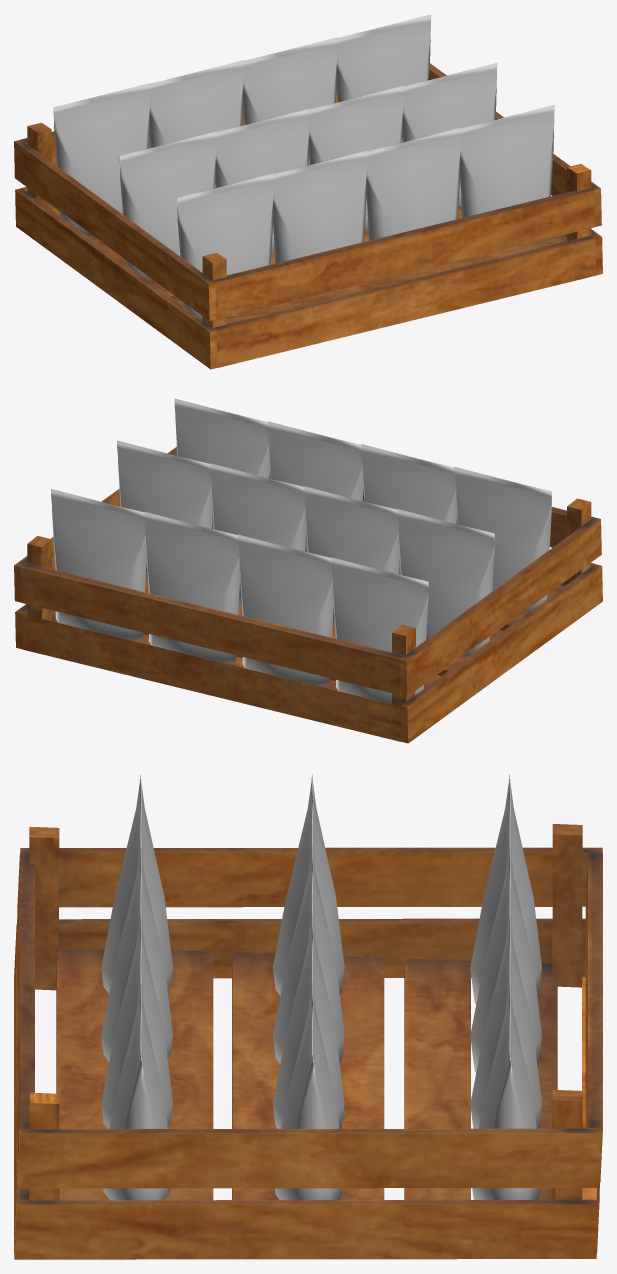
Rendered from Chips.003.fbx.
3 views of the same model, one above another, from view 1: azimuth 30°, elevation 25°; view 2: azimuth 150°, elevation 25°; view 3: azimuth 270°, elevation 25° (orthographic). The views are drawn at different scales.
Visible parts, largest first — view 1: Rack, PAPRIKA, PAPRIKA.001, PAPRIKA.002, PAPRIKA.011, PAPRIKA.003, PAPRIKA.007, PAPRIKA.008, PAPRIKA.010, PAPRIKA.009, PAPRIKA.004, PAPRIKA.005 (+1 smaller); view 2: Rack, PAPRIKA.009, PAPRIKA.010, PAPRIKA.008, PAPRIKA.007, PAPRIKA.011, PAPRIKA.003, PAPRIKA.005, PAPRIKA.004, PAPRIKA.006, PAPRIKA.001, PAPRIKA (+1 smaller); view 3: Rack, PAPRIKA, PAPRIKA.008, PAPRIKA.004, PAPRIKA.010, PAPRIKA.011, PAPRIKA.006, PAPRIKA.007, PAPRIKA.002, PAPRIKA.005, PAPRIKA.009, PAPRIKA.003 (+1 smaller).
Part boxes in pixels (x1,y1,x2,y2): Rack: (14, 63, 602, 369); PAPRIKA: (457, 105, 554, 247); PAPRIKA.001: (364, 127, 461, 270); PAPRIKA.002: (270, 150, 367, 293); PAPRIKA.011: (53, 83, 150, 237); PAPRIKA.003: (177, 173, 274, 319); PAPRIKA.007: (119, 131, 216, 278); PAPRIKA.008: (334, 14, 431, 142); PAPRIKA.010: (147, 60, 244, 187); PAPRIKA.009: (241, 37, 337, 165); PAPRIKA.004: (400, 63, 497, 206); PAPRIKA.005: (307, 85, 403, 229); Rack: (14, 446, 602, 743); PAPRIKA.009: (144, 511, 240, 663); PAPRIKA.010: (238, 534, 333, 686); PAPRIKA.008: (51, 489, 146, 640); PAPRIKA.007: (397, 509, 494, 656); PAPRIKA.011: (331, 557, 428, 704); PAPRIKA.003: (454, 467, 551, 611); PAPRIKA.005: (210, 463, 306, 603); PAPRIKA.004: (117, 440, 212, 580); PAPRIKA.006: (304, 486, 399, 626); PAPRIKA.001: (267, 421, 363, 552); PAPRIKA: (174, 398, 269, 529); Rack: (14, 824, 602, 1259); PAPRIKA: (103, 979, 170, 1200); PAPRIKA.008: (472, 979, 539, 1199); PAPRIKA.004: (275, 979, 342, 1199); PAPRIKA.010: (470, 843, 541, 1072); PAPRIKA.011: (470, 774, 541, 1004); PAPRIKA.006: (273, 843, 344, 1063); PAPRIKA.007: (273, 774, 344, 995); PAPRIKA.002: (101, 843, 172, 1061); PAPRIKA.005: (273, 911, 344, 1128); PAPRIKA.009: (470, 911, 541, 1128); PAPRIKA.003: (101, 774, 172, 993).
Bounding box in the file's own units: 0.6471 × 0.2219 × 0.563.
